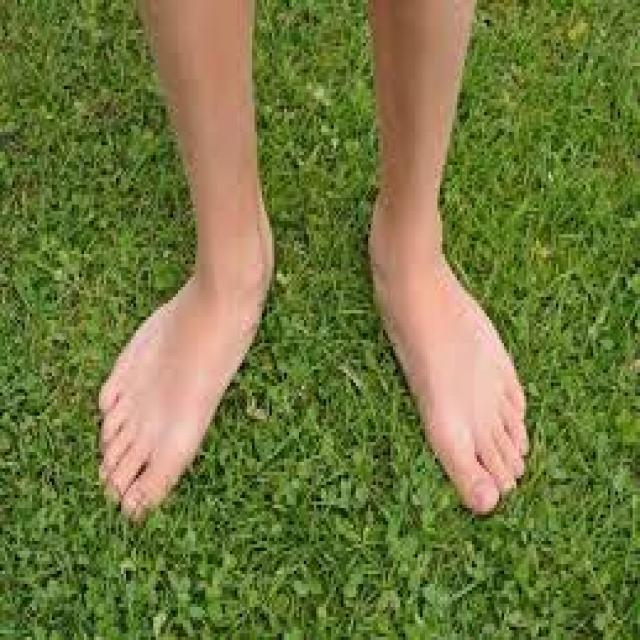No_Shoes: (329, 186, 534, 515), (99, 176, 273, 512)
